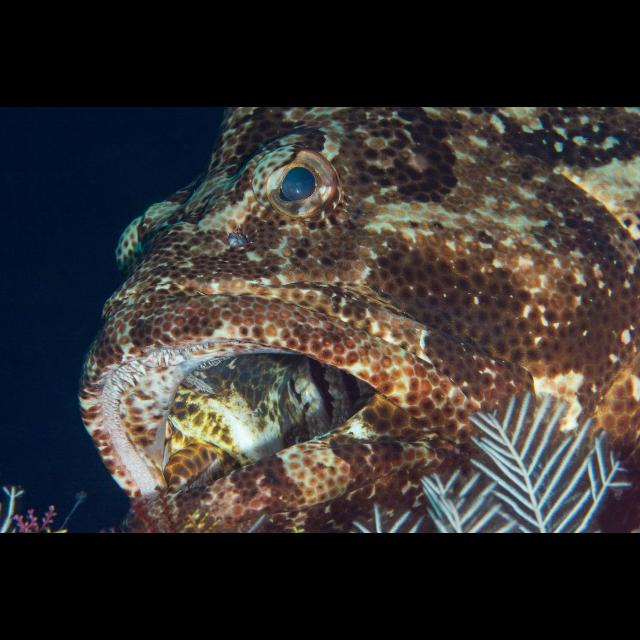Groupers: (82, 107, 640, 533)
